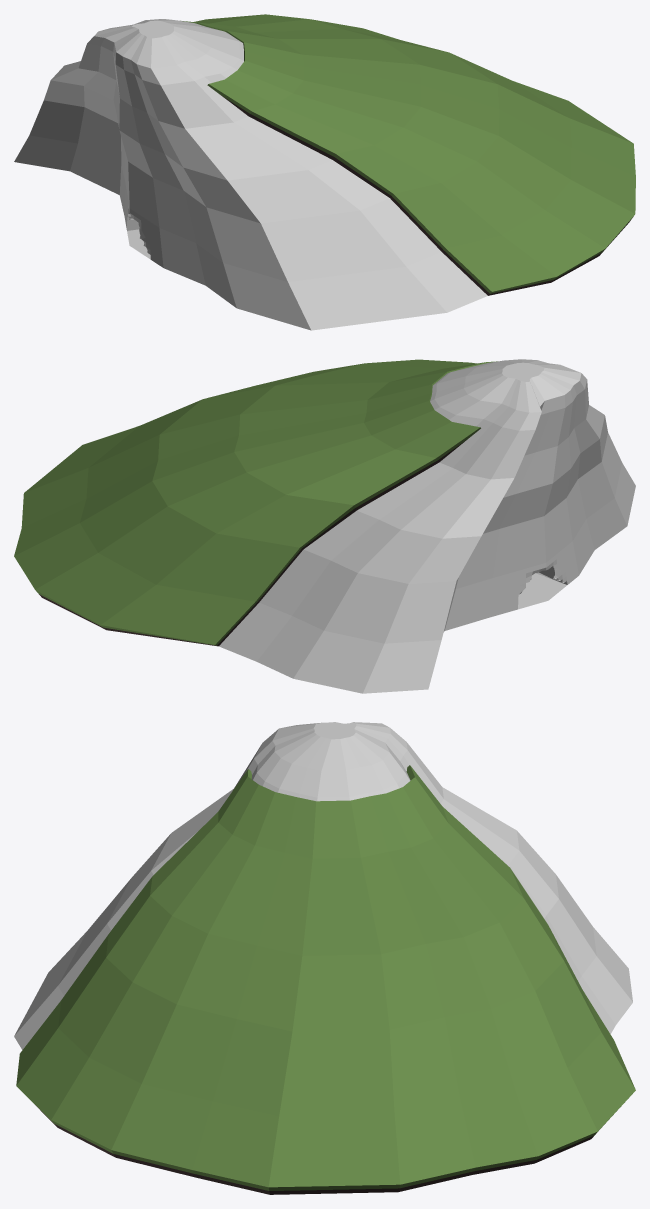
File: CaveMountainHill.fbx
The picture shows the model from 3 angles, top to bottom: view 1: azimuth 30°, elevation 25°; view 2: azimuth 150°, elevation 25°; view 3: azimuth 270°, elevation 25°; orthographic projection. The views are drawn at different scales.
Visible parts, largest first — view 1: Mountain, Grass, Top; view 2: Grass, Mountain, Top; view 3: Grass, Mountain, Top.
Boxes of the visible parts, x1,y1,x2,y2 form: Mountain: [14, 19, 487, 330]; Grass: [180, 14, 635, 293]; Top: [221, 95, 630, 295]; Grass: [14, 359, 497, 645]; Mountain: [219, 359, 635, 693]; Top: [39, 440, 466, 646]; Grass: [16, 765, 635, 1190]; Mountain: [14, 722, 632, 1049]; Top: [35, 1105, 595, 1194].
Size of the model in its own units: 935 by 393 by 948.
